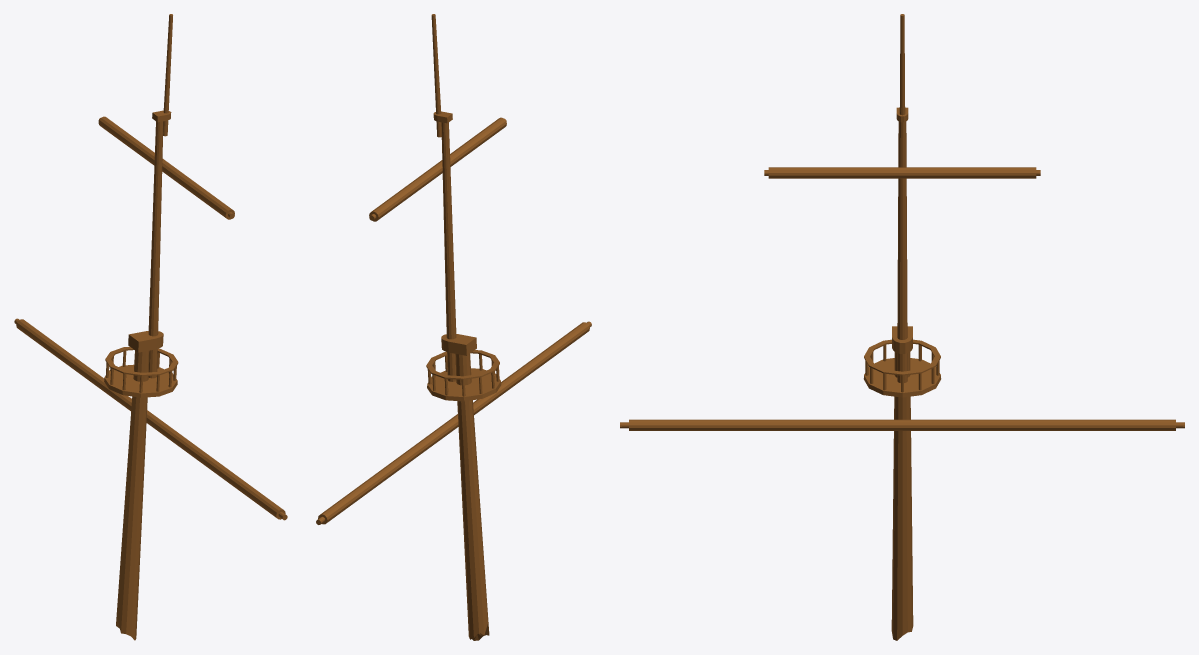
Rendered from Pole 2.fbx.
The picture shows the model from 3 angles, left to right: view 1: azimuth 30°, elevation 25°; view 2: azimuth 150°, elevation 25°; view 3: azimuth 270°, elevation 25°; orthographic projection. The views are drawn at different scales.
Visible parts, largest first — view 1: Cylinder.007; view 2: Cylinder.007; view 3: Cylinder.007.
Part boxes in pixels (box(x1,y1,x2,y2)): Cylinder.007: box(14, 14, 287, 640); Cylinder.007: box(316, 14, 591, 640); Cylinder.007: box(620, 14, 1184, 640).
Bounding box in the file's own units: 15.37 × 140 × 111.
